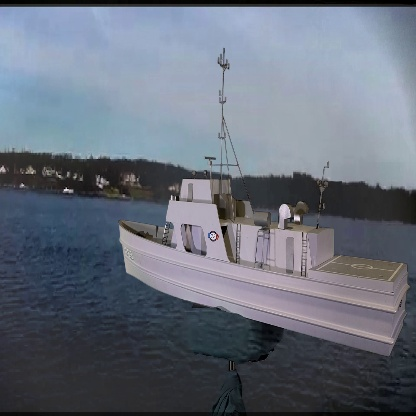YP689: (118, 51, 410, 358)
